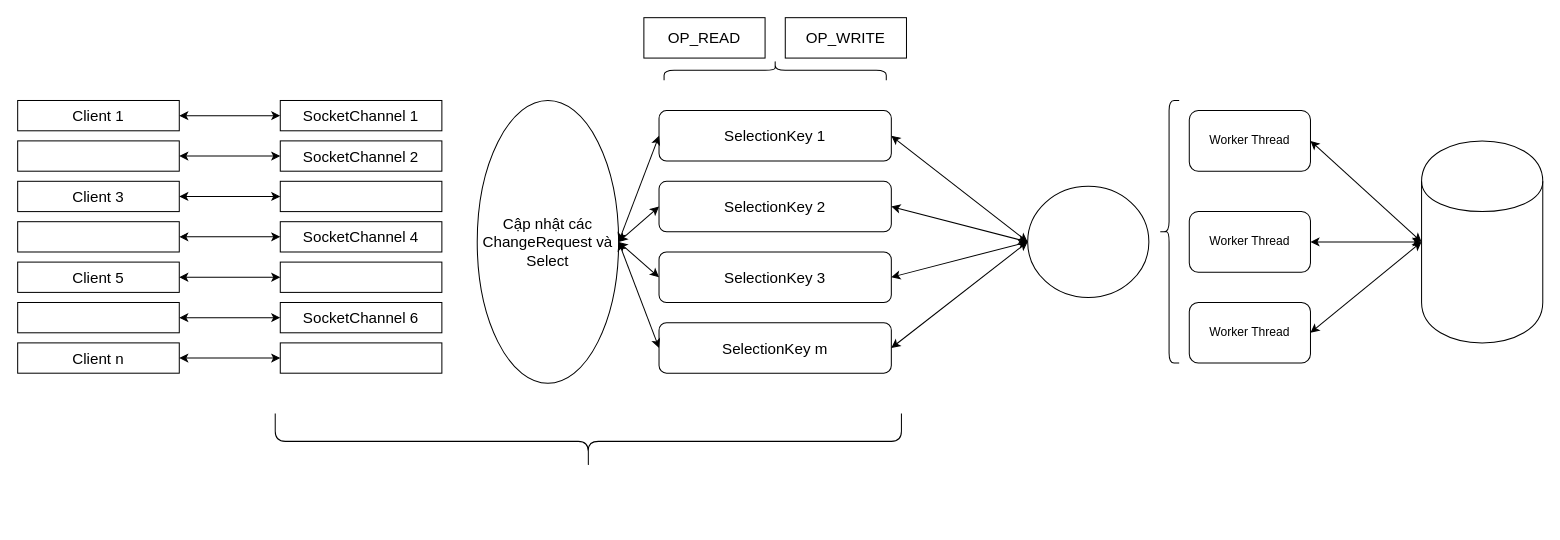
Image size: 1560x540. Some labels were removed from this diagram. Here are the shapes that lost their labels. From the top down, the box of each, then its label:
(17, 140, 179, 171): Client 2
(279, 180, 442, 212): SocketChannel 3
(17, 221, 179, 252): Client 4
(1027, 185, 1149, 297): Lập lịch
(1421, 140, 1543, 343): Database
(279, 261, 442, 292): SocketChannel 5
(17, 301, 179, 333): Client 6
(279, 342, 442, 373): SocketChannel n
(274, 413, 901, 469): Server Reactor
